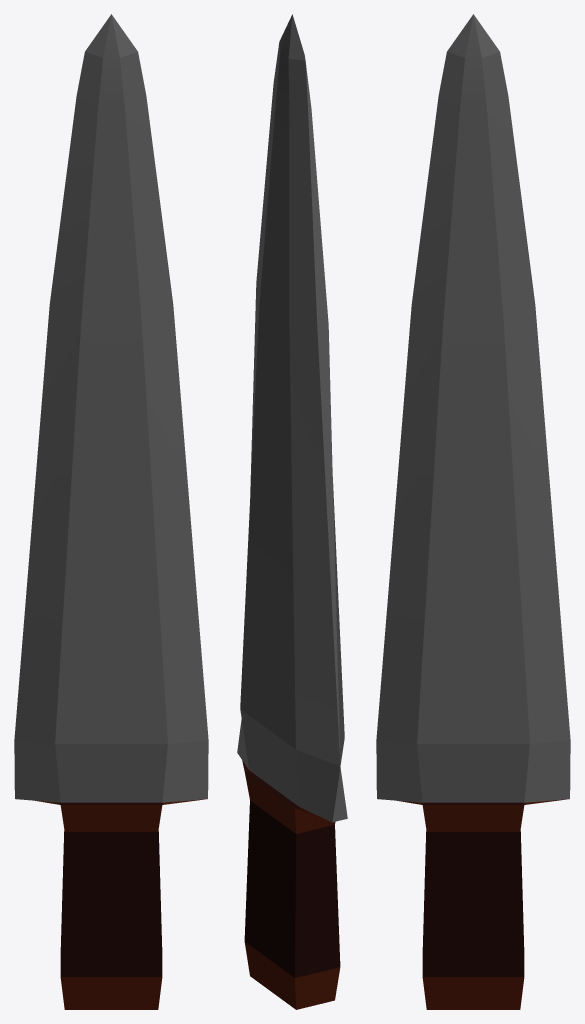
Rendered from shortsword_cone.obj.
3 views of the same model, side by side, from view 1: azimuth 90°, elevation 25°; view 2: azimuth 210°, elevation 25°; view 3: azimuth 270°, elevation 25° (orthographic).
Visible parts, largest first — view 1: Sword_Cube.001; view 2: Sword_Cube.001; view 3: Sword_Cube.001.
Part boxes in pixels (box(x1,y1,x2,y2)): Sword_Cube.001: box(14, 14, 208, 1009); Sword_Cube.001: box(237, 14, 347, 1009); Sword_Cube.001: box(376, 14, 570, 1009).
Bounding box in the file's own units: 0.0518 × 0.9882 × 0.1764.
